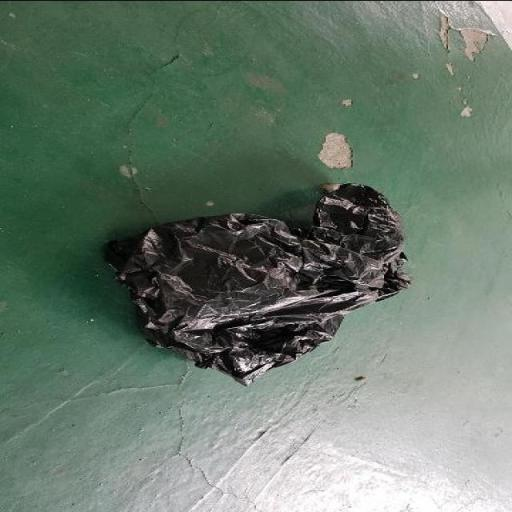plastic-bag: (98, 181, 416, 387)
